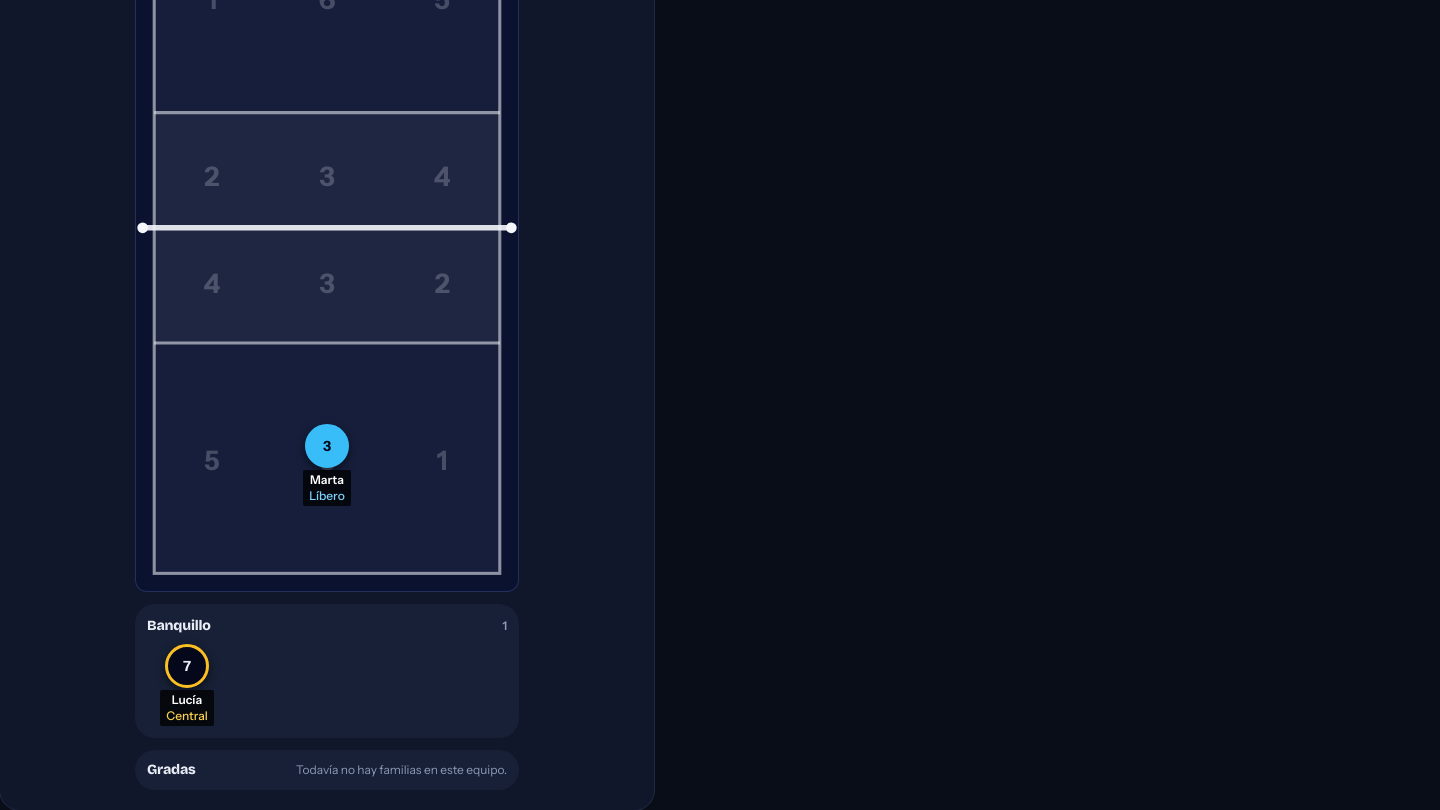
Test: Plantilla › cambiar el puesto desde la pista; si el servidor falla, vuelve al anterior
(page scrolled)
Press Enter in the button with test id "court-token" showing "3 Marta Líbero", box [287,424,367,506]
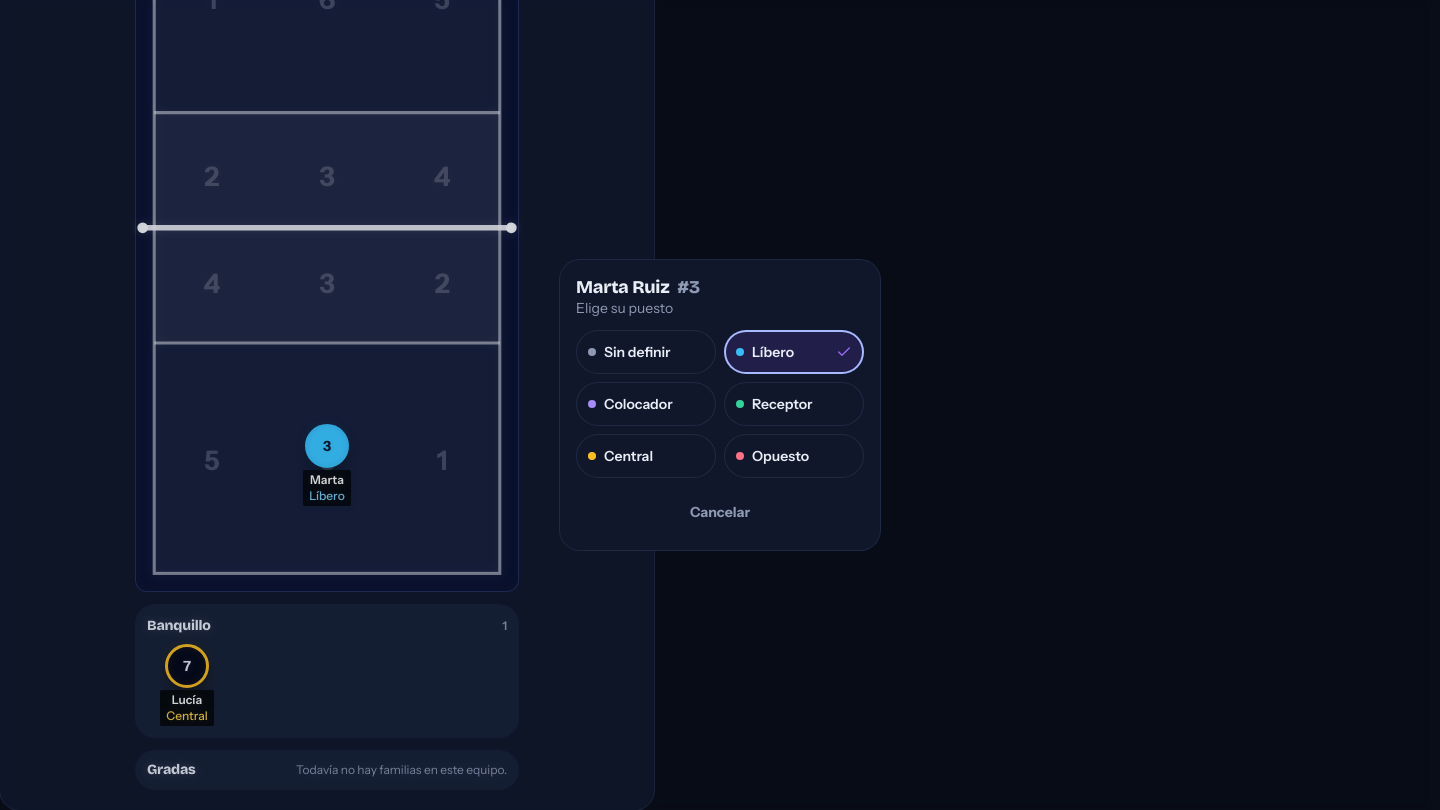
Now the dialog "Marta Ruiz" is shown, box [560,260,880,550]
Click the button "Opuesto": (794, 456) [724,434,864,478]
(page scrolled)
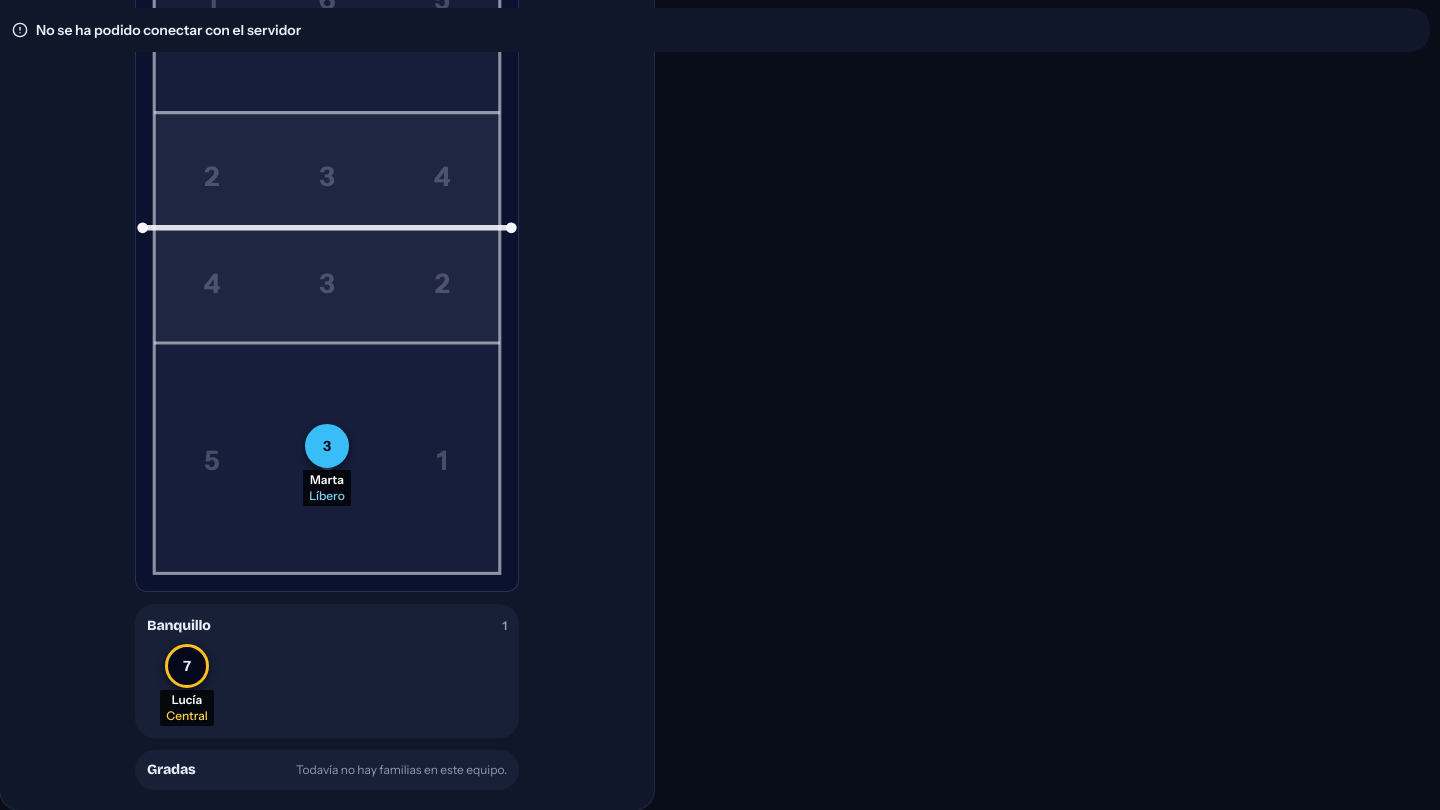
Expected: the button with aria-label "Mover a Marta Ruiz, dorsal 3, Líbero" is shown, [287,424,367,506]
Now the message reads "No se ha podido conectar con el servidor", box [36,21,301,39]
